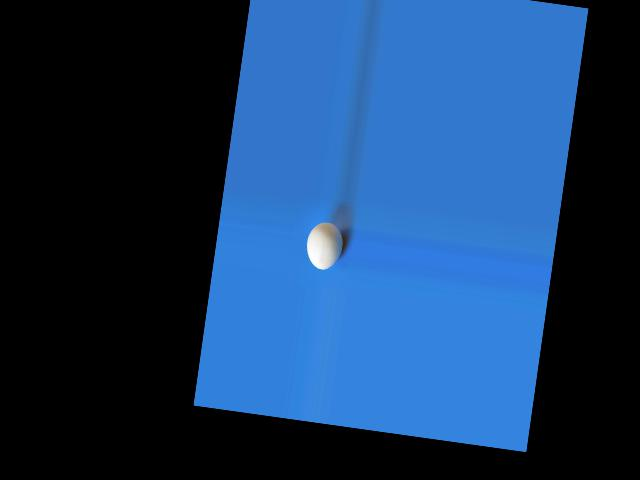egg: (303, 219, 346, 272)
